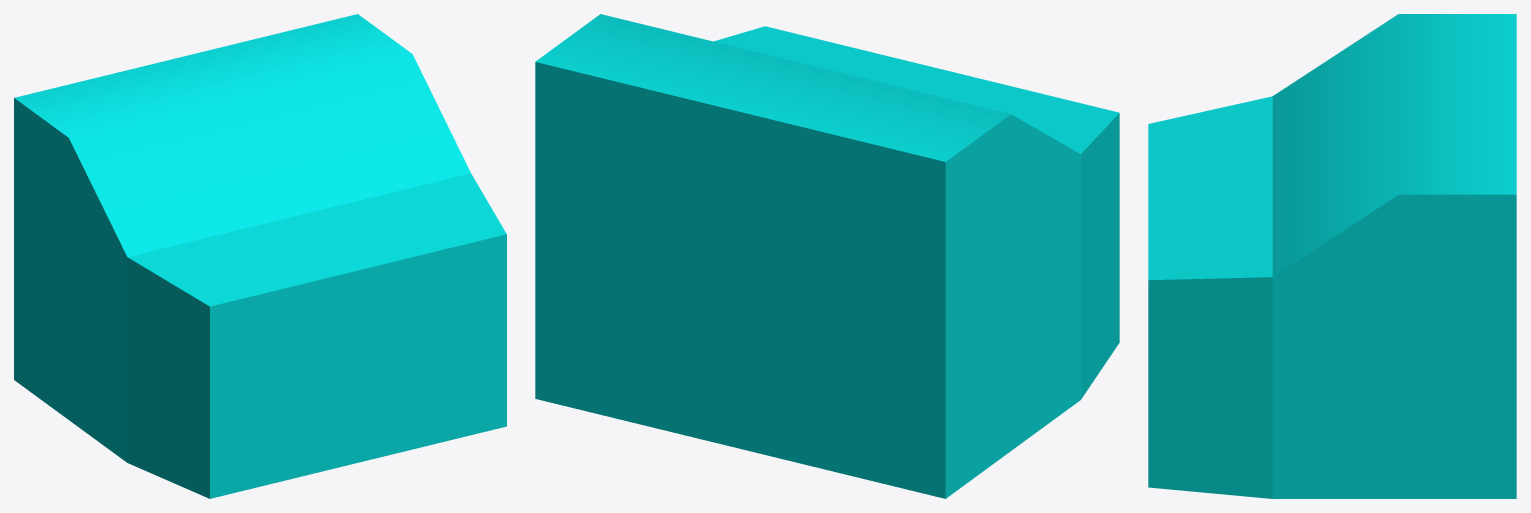
File: SM_Prop_Ruins_Stairs_01_Collision.fbx
The picture shows the model from 3 angles, left to right: view 1: azimuth 30°, elevation 25°; view 2: azimuth 150°, elevation 25°; view 3: azimuth 270°, elevation 25°; orthographic projection. The views are drawn at different scales.
Parts seen in each view (by area): view 1: SM_Prop_Ruins_Stairs_01_Collision; view 2: SM_Prop_Ruins_Stairs_01_Collision; view 3: SM_Prop_Ruins_Stairs_01_Collision.
Part boxes in pixels (x1,y1,x2,y2): SM_Prop_Ruins_Stairs_01_Collision: (14, 14, 506, 498); SM_Prop_Ruins_Stairs_01_Collision: (535, 14, 1119, 498); SM_Prop_Ruins_Stairs_01_Collision: (1148, 14, 1516, 498).
Bounding box in the file's own units: 259 × 203 × 223.
